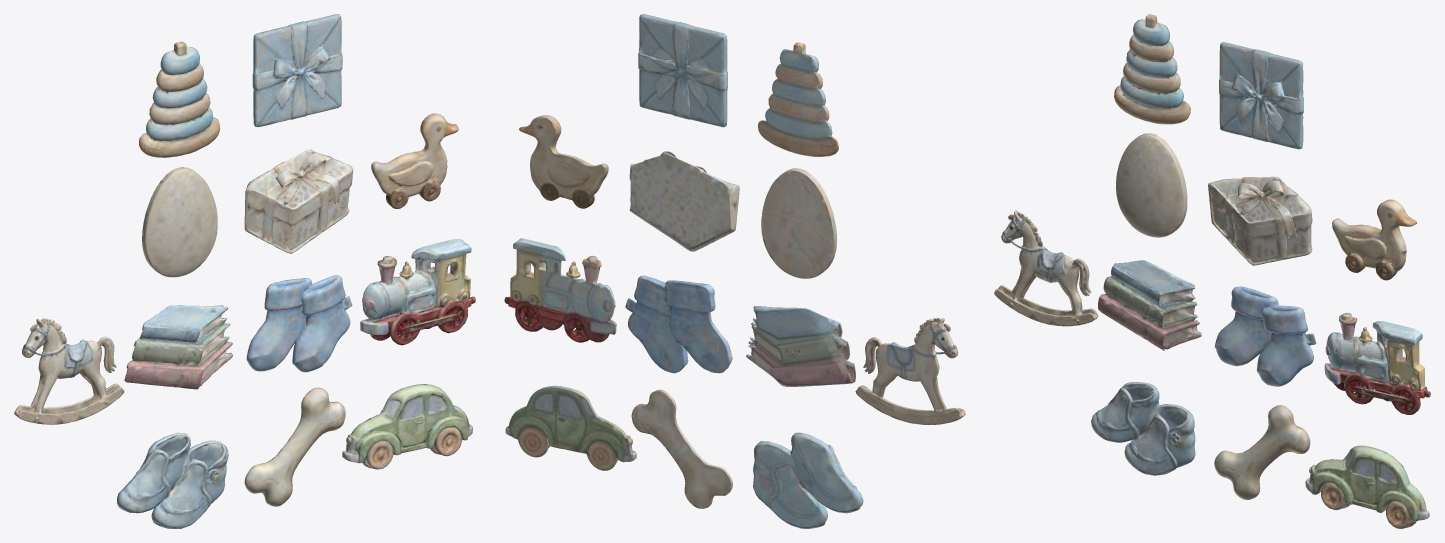
The picture shows the model from 3 angles, left to right: view 1: azimuth 30°, elevation 25°; view 2: azimuth 150°, elevation 25°; view 3: azimuth 330°, elevation 25°; orthographic projection. The views are drawn at different scales.
Visible parts, largest first — view 1: Mesh 13, Mesh 15, Mesh 10, Mesh 12, Mesh 6, Mesh 7, Mesh 14, Mesh 9, Mesh 8, Mesh 1, Mesh 11, Mesh 17; view 2: Mesh 13, Mesh 15, Mesh 10, Mesh 12, Mesh 6, Mesh 7, Mesh 9, Mesh 14, Mesh 8, Mesh 1, Mesh 11, Mesh 17; view 3: Mesh 13, Mesh 10, Mesh 15, Mesh 12, Mesh 6, Mesh 7, Mesh 14, Mesh 9, Mesh 8, Mesh 1, Mesh 17, Mesh 11.
Boxes of the visible parts, x1,y1,x2,y2 form: Mesh 13: (252, 14, 342, 127); Mesh 15: (360, 239, 475, 345); Mesh 10: (244, 149, 353, 253); Mesh 12: (246, 275, 352, 372); Mesh 6: (117, 432, 228, 528); Mesh 7: (124, 305, 232, 389); Mesh 14: (342, 384, 472, 469); Mesh 9: (142, 167, 217, 277); Mesh 8: (139, 41, 219, 157); Mesh 1: (14, 318, 124, 424); Mesh 11: (244, 387, 345, 506); Mesh 17: (371, 113, 458, 208); Mesh 13: (638, 14, 727, 127); Mesh 15: (504, 238, 616, 342); Mesh 10: (629, 151, 739, 251); Mesh 12: (625, 275, 732, 373); Mesh 6: (753, 432, 863, 528); Mesh 7: (746, 306, 855, 386); Mesh 9: (761, 168, 836, 278); Mesh 14: (505, 385, 636, 470); Mesh 8: (758, 42, 838, 156); Mesh 1: (855, 318, 965, 424); Mesh 11: (631, 389, 732, 508); Mesh 17: (519, 115, 608, 208); Mesh 13: (1219, 42, 1303, 149); Mesh 10: (1208, 176, 1312, 265); Mesh 15: (1324, 312, 1430, 414); Mesh 12: (1214, 286, 1316, 386); Mesh 6: (1091, 382, 1195, 475); Mesh 7: (1098, 260, 1201, 350); Mesh 14: (1305, 445, 1429, 528); Mesh 9: (1116, 133, 1187, 237); Mesh 8: (1114, 14, 1190, 124); Mesh 1: (994, 210, 1098, 326); Mesh 17: (1332, 199, 1416, 280); Mesh 11: (1214, 405, 1310, 499).
Bounding box in the file's own units: 1.87 × 1.9 × 0.0679.
Materials: 12 (12 with a texture image).
